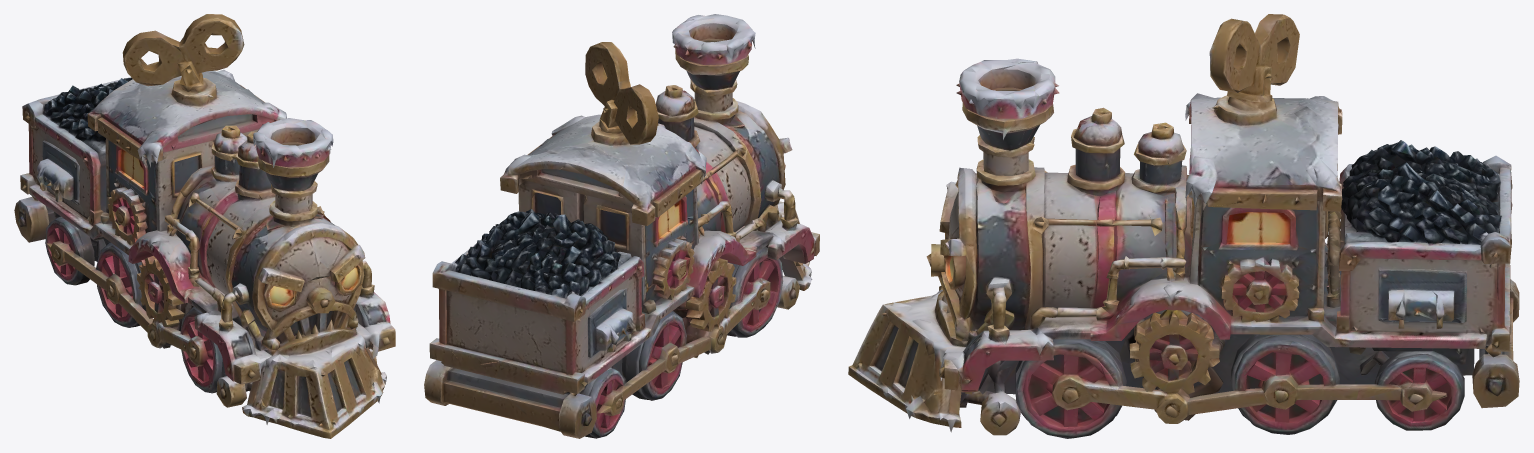
File: m2ClockworkTrainBoss.glb
The picture shows the model from 3 angles, left to right: view 1: azimuth 30°, elevation 25°; view 2: azimuth 150°, elevation 25°; view 3: azimuth 270°, elevation 25°; orthographic projection. The views are drawn at different scales.
Parts seen in each view (by area): view 1: model; view 2: model; view 3: model.
Part boxes in pixels (<box>): model: <box>14,14,395,438</box>; model: <box>424,14,819,438</box>; model: <box>848,14,1519,438</box>.
Bounding box in the file's own units: 0.6741 × 1.2 × 1.9.
1 material, 1 textured.
